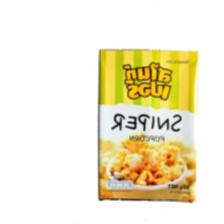snack: (89, 41, 208, 209)
